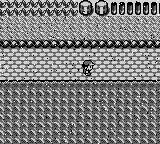captura: (1, 0, 79, 16)
main: (81, 61, 94, 75)
no-caminable: (1, 81, 160, 143), (111, 1, 159, 15), (79, 0, 110, 16)
